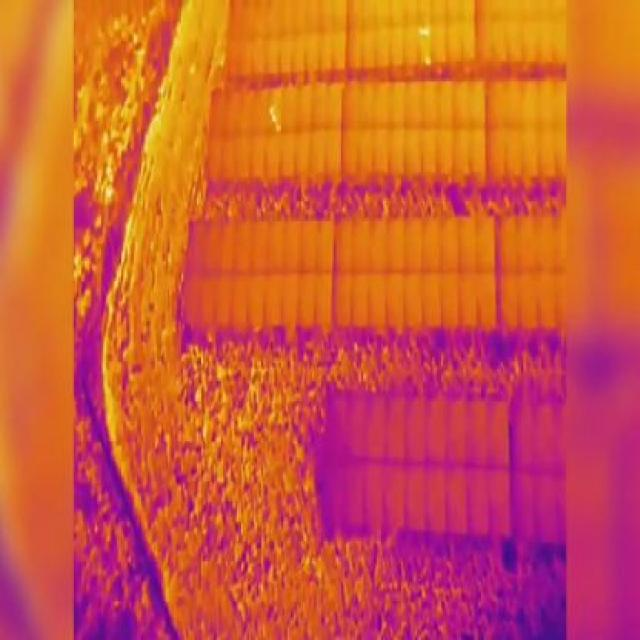hotspot: (426, 56, 431, 72), (418, 26, 424, 36), (268, 107, 274, 115), (423, 28, 428, 37), (276, 125, 282, 132), (272, 116, 277, 122)
